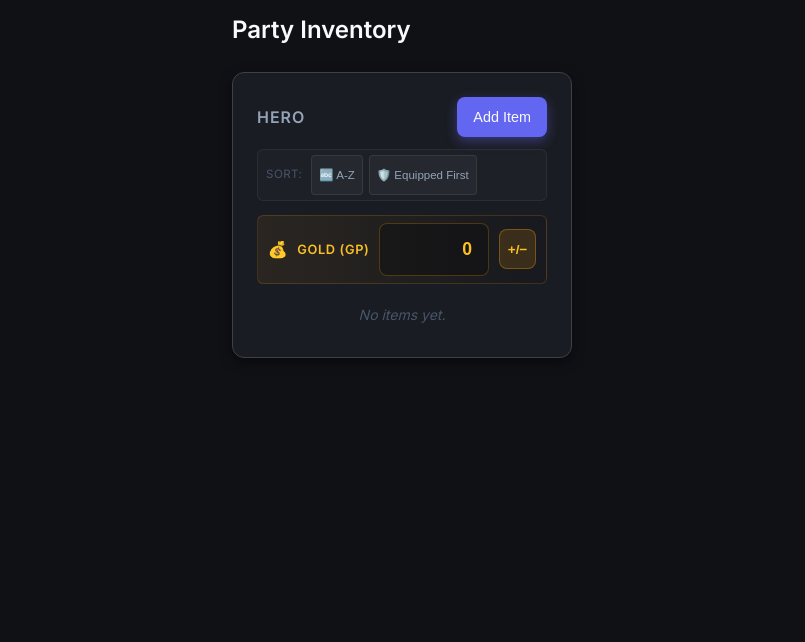
Test case: Equipment Component › creates a custom item and syncs it when unrecognized name is used
Click the button "Add Item": click(502, 117) [457,97,547,137]
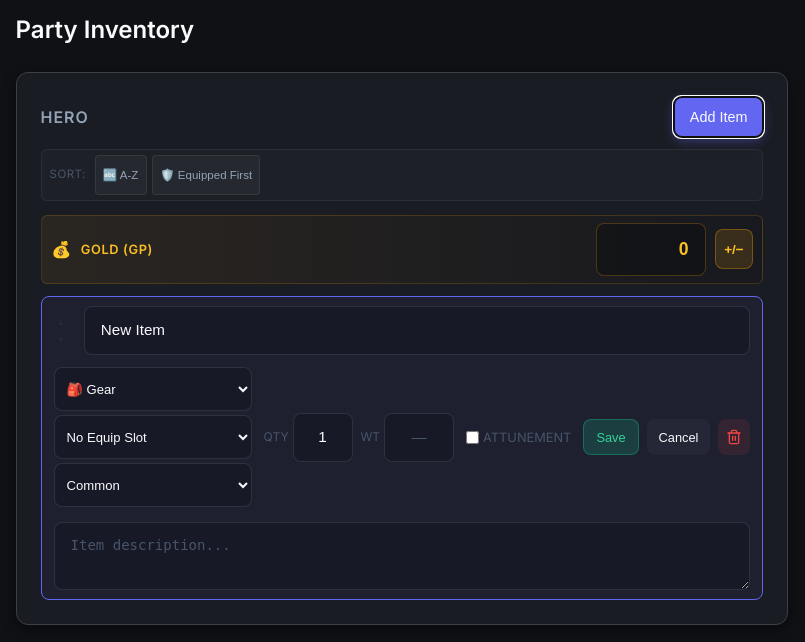
Replace the text in the field with placeholder "Item Name" with "Homebrew Dagger": (417, 331) [84,306,750,355]
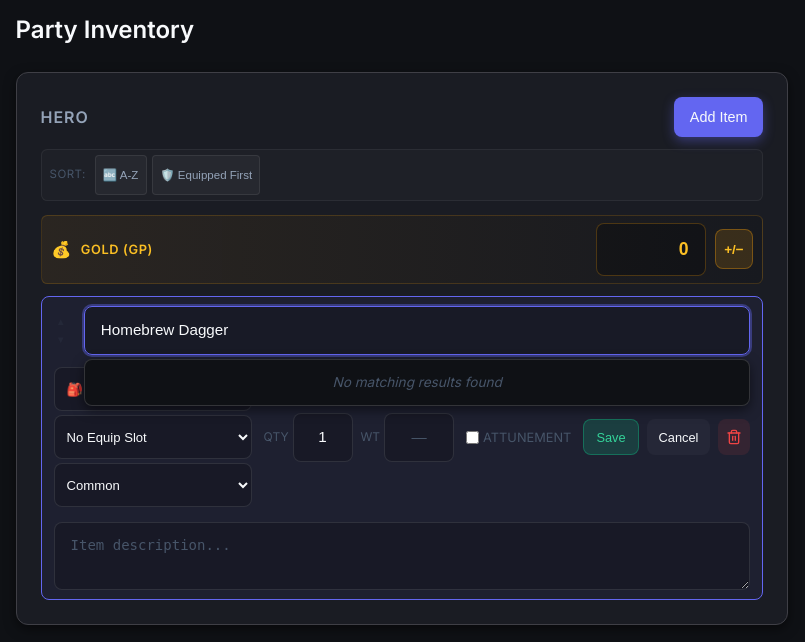
// Click Save
Click the button "Save": click(611, 437) [583,419,639,455]
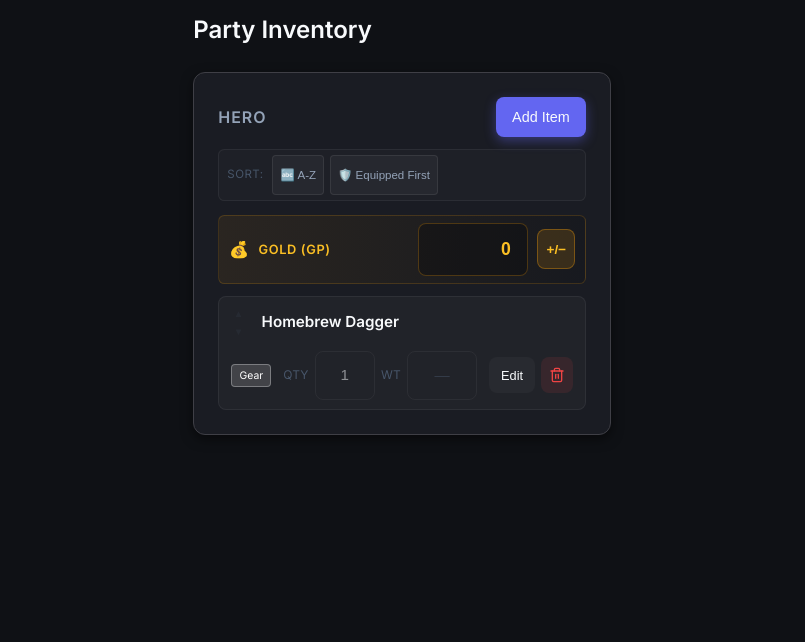
Check: the text "Homebrew Dagger" is shown, box [262,312,399,331]
